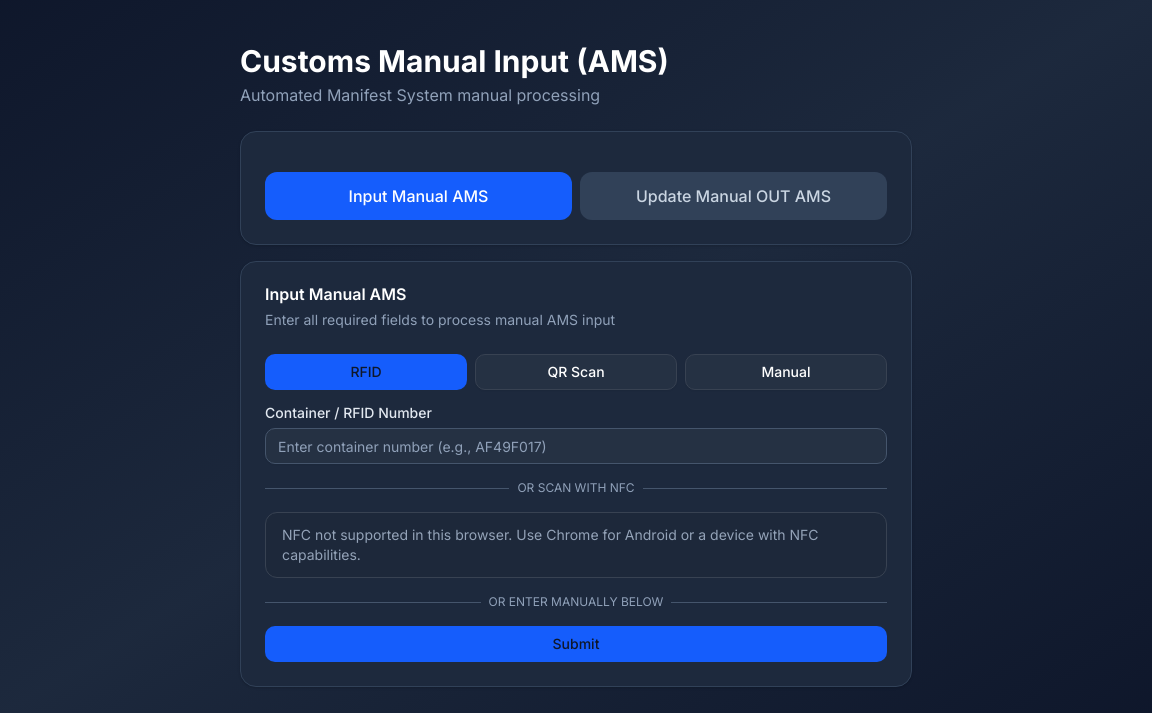
Scenario: CustomsPage › submits manual AMS input with normalized container values
Click the button "Manual" at [786, 372], box [685,354,887,390]
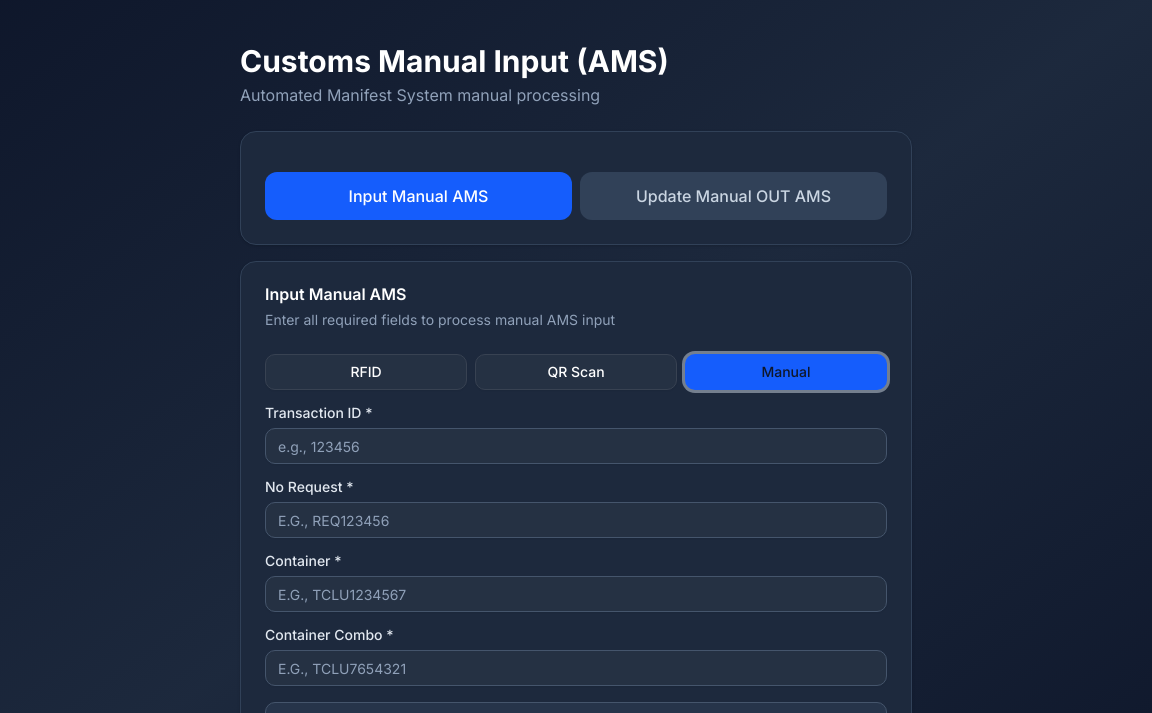
Type "1514056" into the number field labelled "Transaction ID *" at [576, 446], box [265,428,887,464]
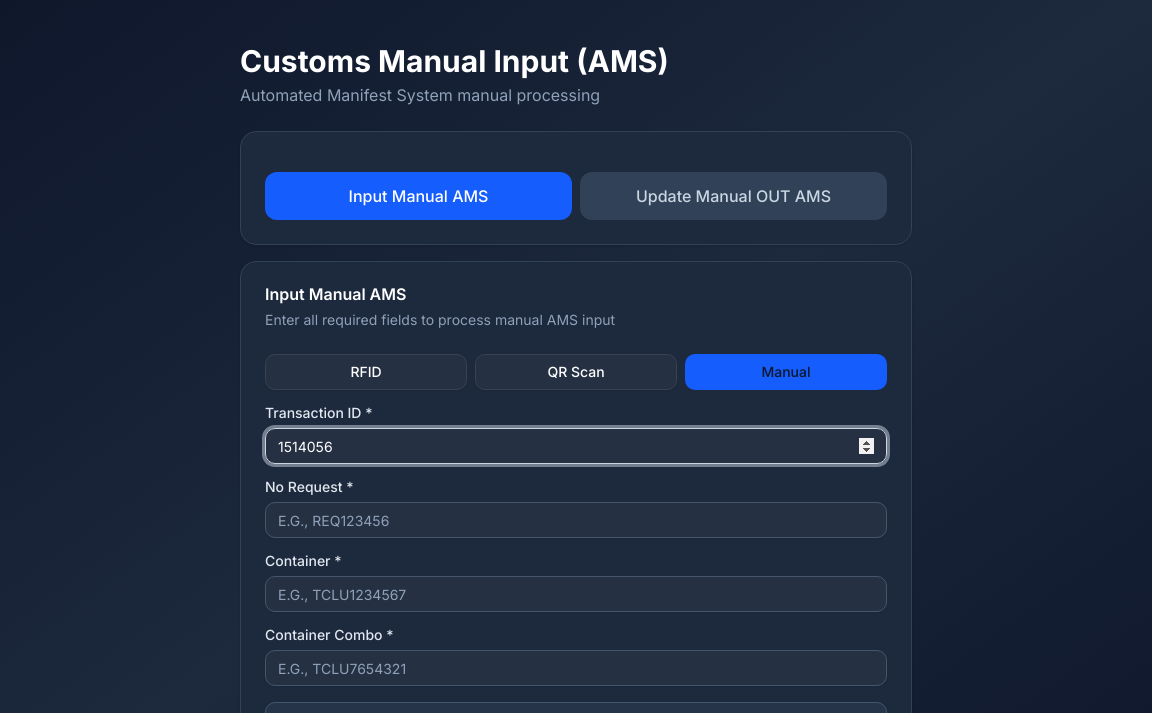
Type "rec267000115286" into the field labelled "No Request *" at [576, 520], box [265,502,887,538]
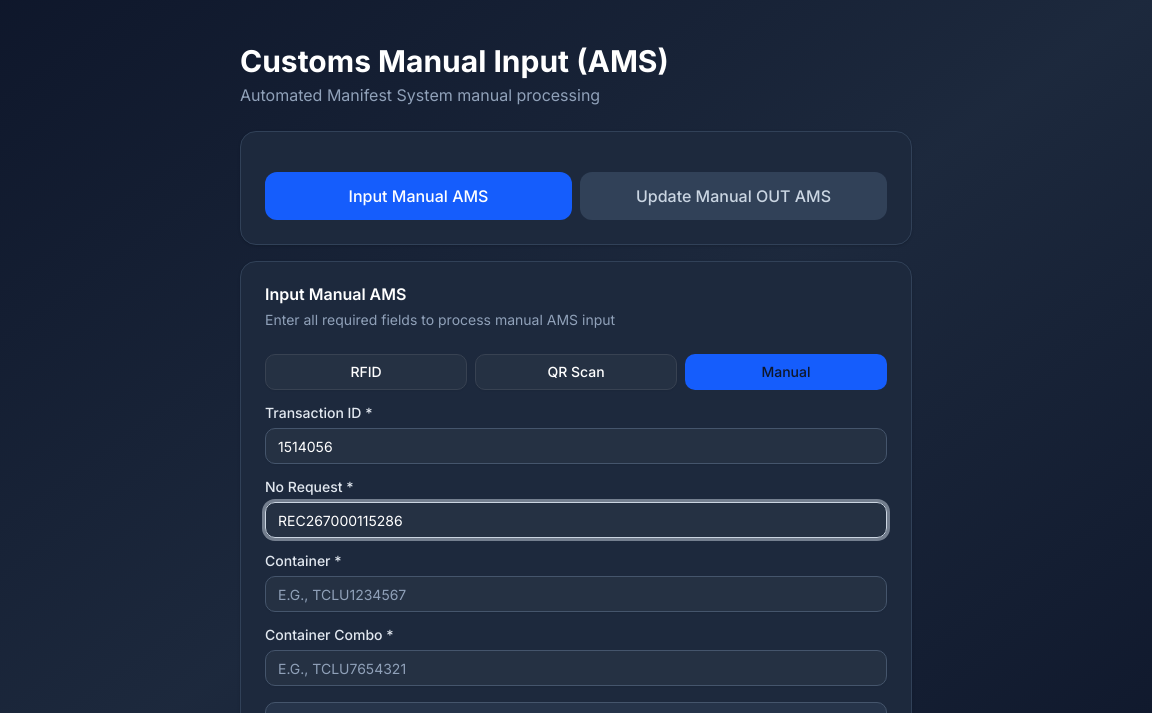
Type "tcku7308830" into the field labelled "Container *" at [576, 594], box [265,576,887,612]
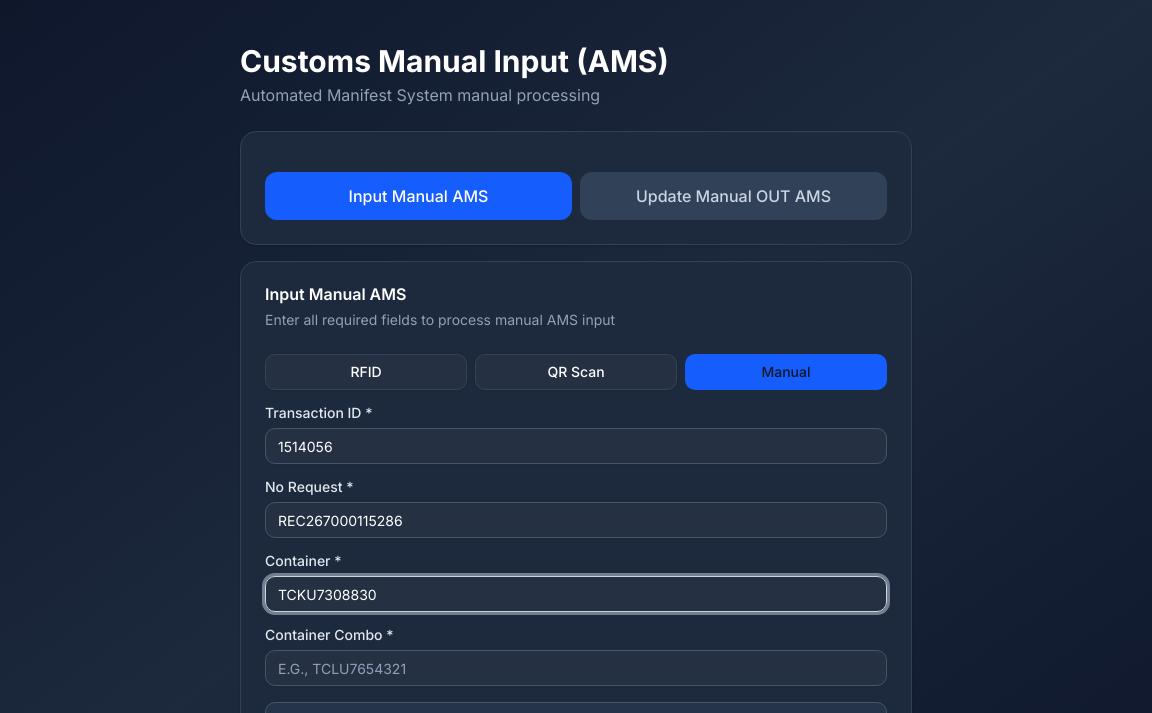
Type "tcku7308831" into the field labelled "Container Combo *" at [576, 668], box [265,650,887,686]
(page scrolled)
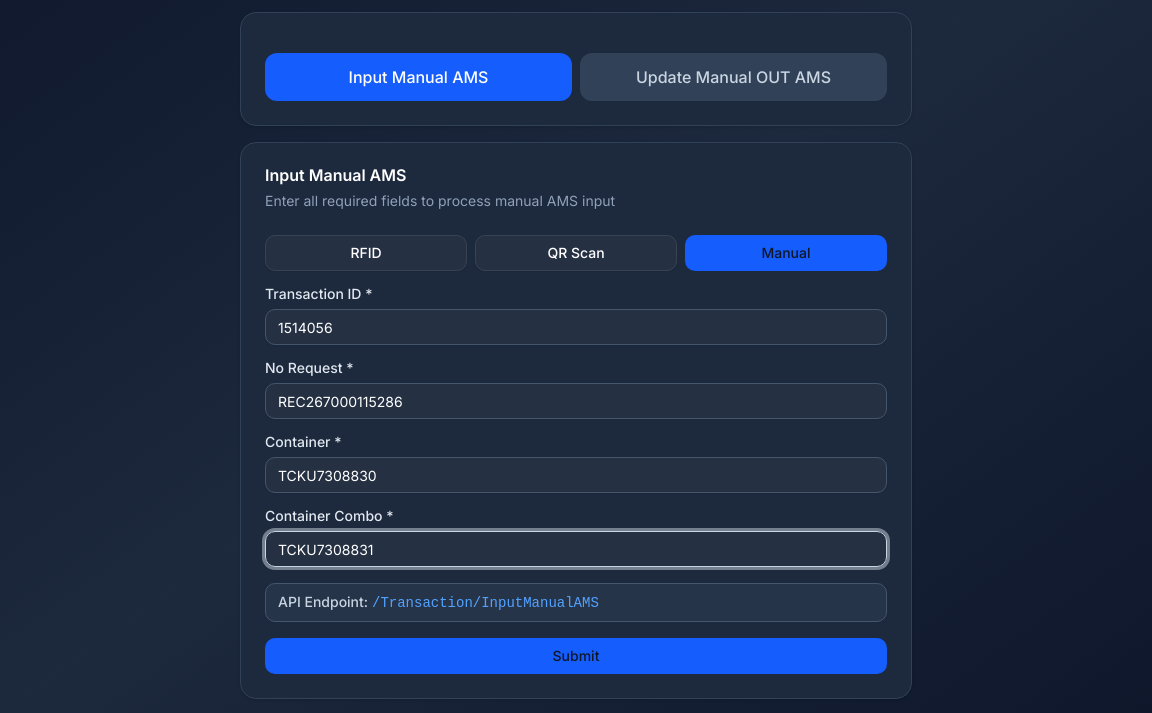
Click the button "Submit" at [576, 656], box [265,638,887,674]
(page scrolled)
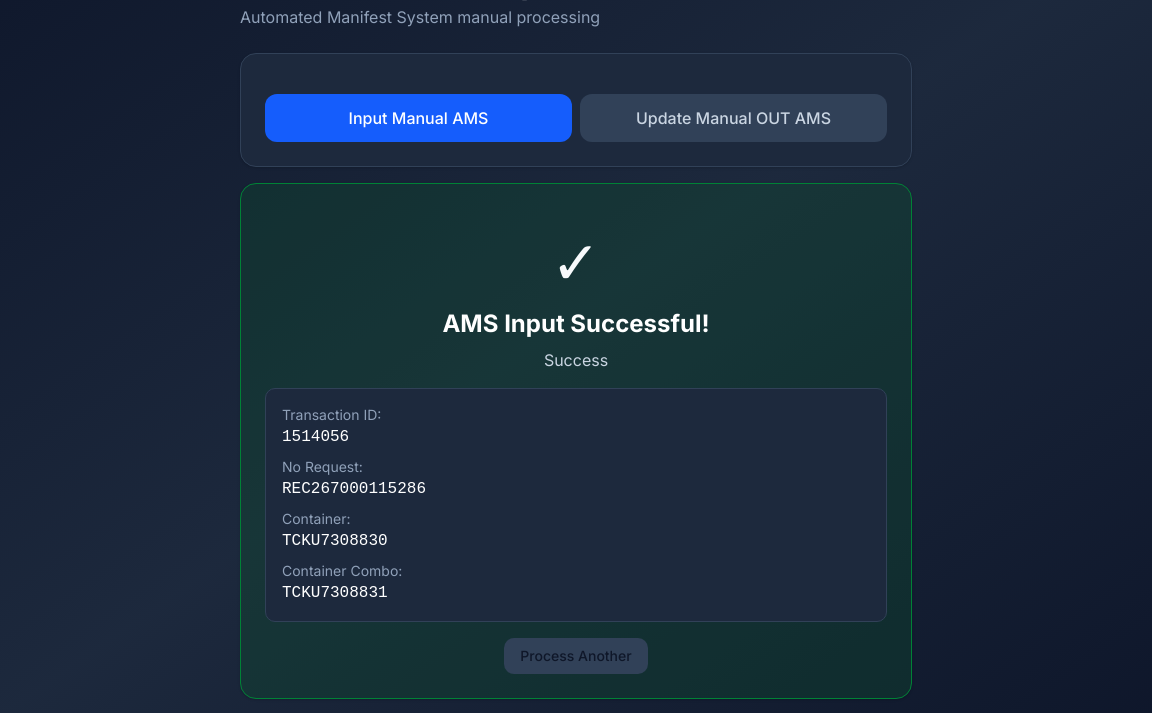
Result: the heading "AMS Input Successful!" is shown at [442,309,710,338]
